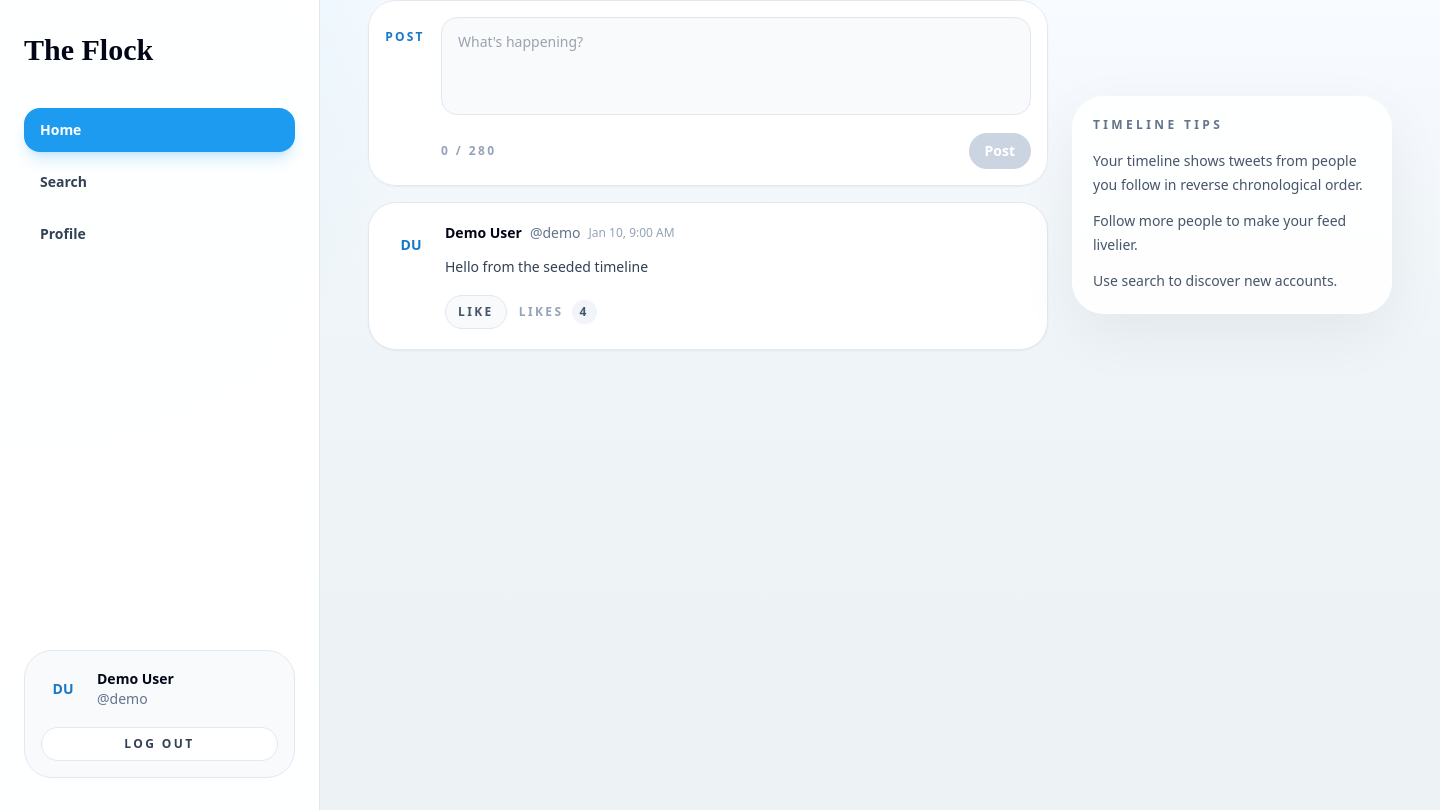
Scenario: App authentication flow › clears session on logout
Click the button "Log out".
click(160, 744)  # box [41,727,278,761]
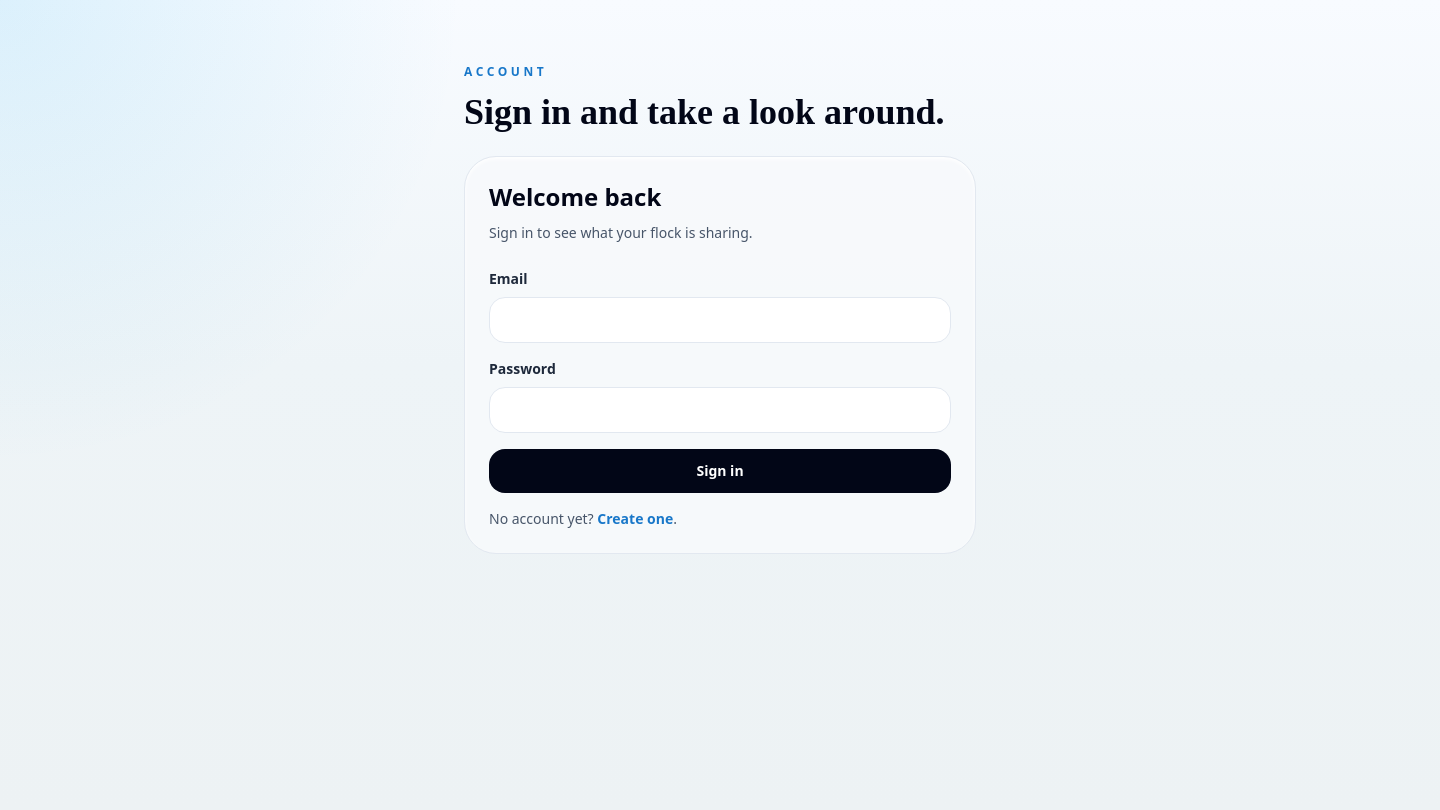
Expected: the heading "Welcome back" is shown, [489,180,661,213]
